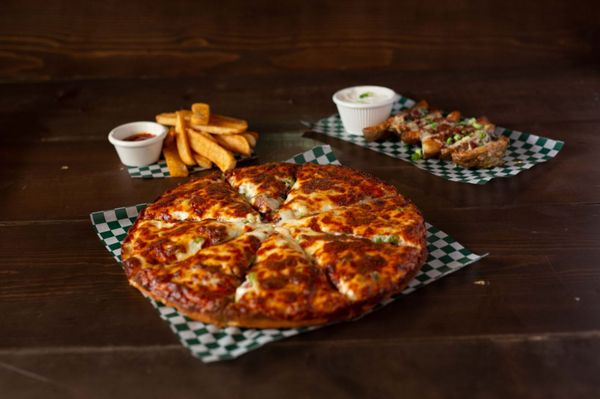pizza: (108, 121, 168, 169)
sushi: (332, 85, 397, 135), (108, 121, 168, 168)
